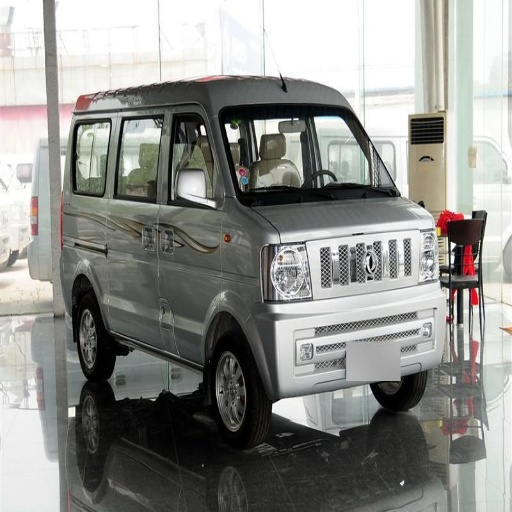front_bumper: (253, 294, 427, 394)
front_right_door: (155, 106, 233, 347)
front_right_light: (265, 234, 312, 301)
tailgate: (320, 221, 438, 295)
trunk: (404, 290, 448, 357)
